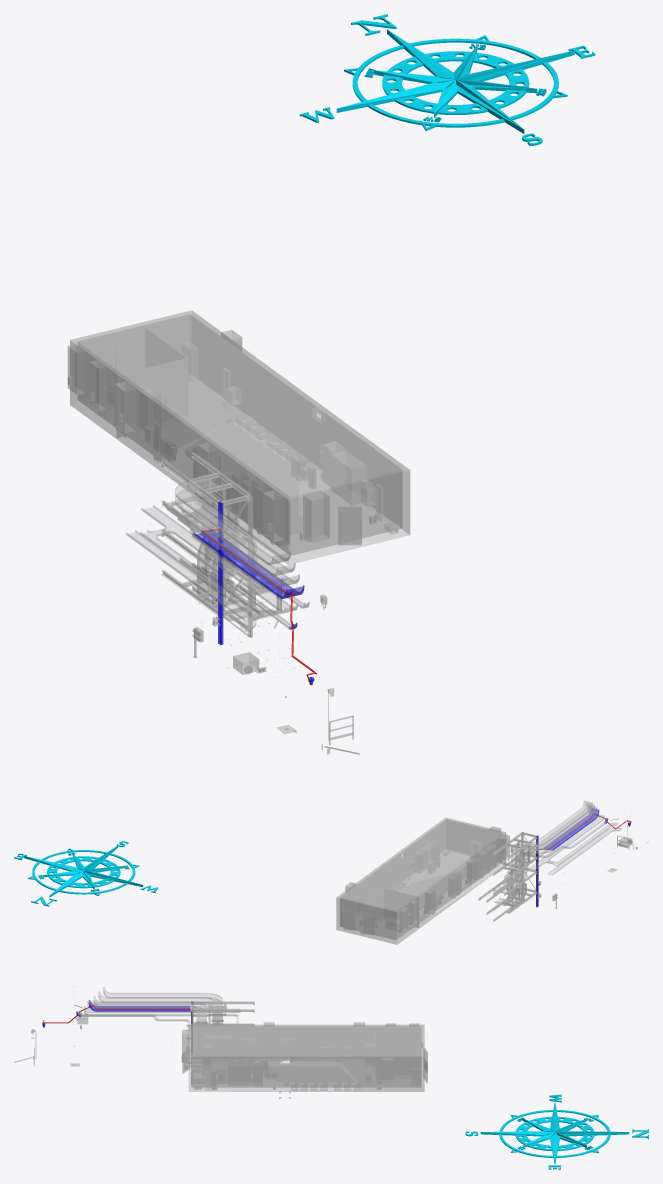
The model's file is mini_model.glb.
The picture shows the model from 3 angles, top to bottom: view 1: azimuth 30°, elevation 25°; view 2: azimuth 150°, elevation 25°; view 3: azimuth 270°, elevation 25°; orthographic projection. The views are drawn at different scales.
Visible parts, largest first — view 1: IfcBuildingElementProxy/None.31399, Compass, IfcBuildingElementProxy/None.31366, IfcBuildingElementProxy/None.31605, IfcBuildingElementProxy/None.31583, IfcBuildingElementProxy/None.31636, IfcBuildingElementProxy/None.31514, IfcBuildingElementProxy/None.31415; view 2: IfcBuildingElementProxy/None.31399, Compass, IfcBuildingElementProxy/None.31366, IfcBuildingElementProxy/None.31605, IfcBuildingElementProxy/None.31636, IfcBuildingElementProxy/None.31583, IfcBuildingElementProxy/None.31514, IfcBuildingElementProxy/None.31415; view 3: IfcBuildingElementProxy/None.31399, Compass, IfcBuildingElementProxy/None.31605, IfcBuildingElementProxy/None.31366, IfcBuildingElementProxy/None.31583, IfcBuildingElementProxy/None.31415, SelectedCableRoute, IfcBuildingElementProxy/None.31419.
Part boxes in pixels (x1,y1,x2,y2): IfcBuildingElementProxy/None.31399: [67, 310, 410, 564]; Compass: [299, 14, 595, 145]; IfcBuildingElementProxy/None.31366: [179, 494, 283, 563]; IfcBuildingElementProxy/None.31605: [179, 502, 287, 575]; IfcBuildingElementProxy/None.31583: [193, 529, 296, 597]; IfcBuildingElementProxy/None.31636: [175, 530, 290, 612]; IfcBuildingElementProxy/None.31514: [126, 530, 252, 620]; IfcBuildingElementProxy/None.31415: [194, 523, 291, 586]; IfcBuildingElementProxy/None.31399: [336, 817, 509, 944]; Compass: [14, 841, 158, 906]; IfcBuildingElementProxy/None.31366: [537, 809, 588, 843]; IfcBuildingElementProxy/None.31605: [537, 812, 590, 847]; IfcBuildingElementProxy/None.31636: [543, 819, 601, 859]; IfcBuildingElementProxy/None.31583: [544, 817, 595, 850]; IfcBuildingElementProxy/None.31514: [548, 831, 610, 875]; IfcBuildingElementProxy/None.31415: [545, 815, 593, 846]; IfcBuildingElementProxy/None.31399: [182, 1022, 427, 1091]; Compass: [465, 1094, 648, 1169]; IfcBuildingElementProxy/None.31605: [106, 997, 205, 1002]; IfcBuildingElementProxy/None.31366: [111, 993, 205, 998]; IfcBuildingElementProxy/None.31583: [97, 1006, 189, 1011]; IfcBuildingElementProxy/None.31415: [101, 1002, 189, 1007]; SelectedCableRoute: [42, 1005, 192, 1053]; IfcBuildingElementProxy/None.31419: [89, 1014, 233, 1016].
Size of what is drawn, in the model's own units: 47.56 by 10.11 by 59.88.
